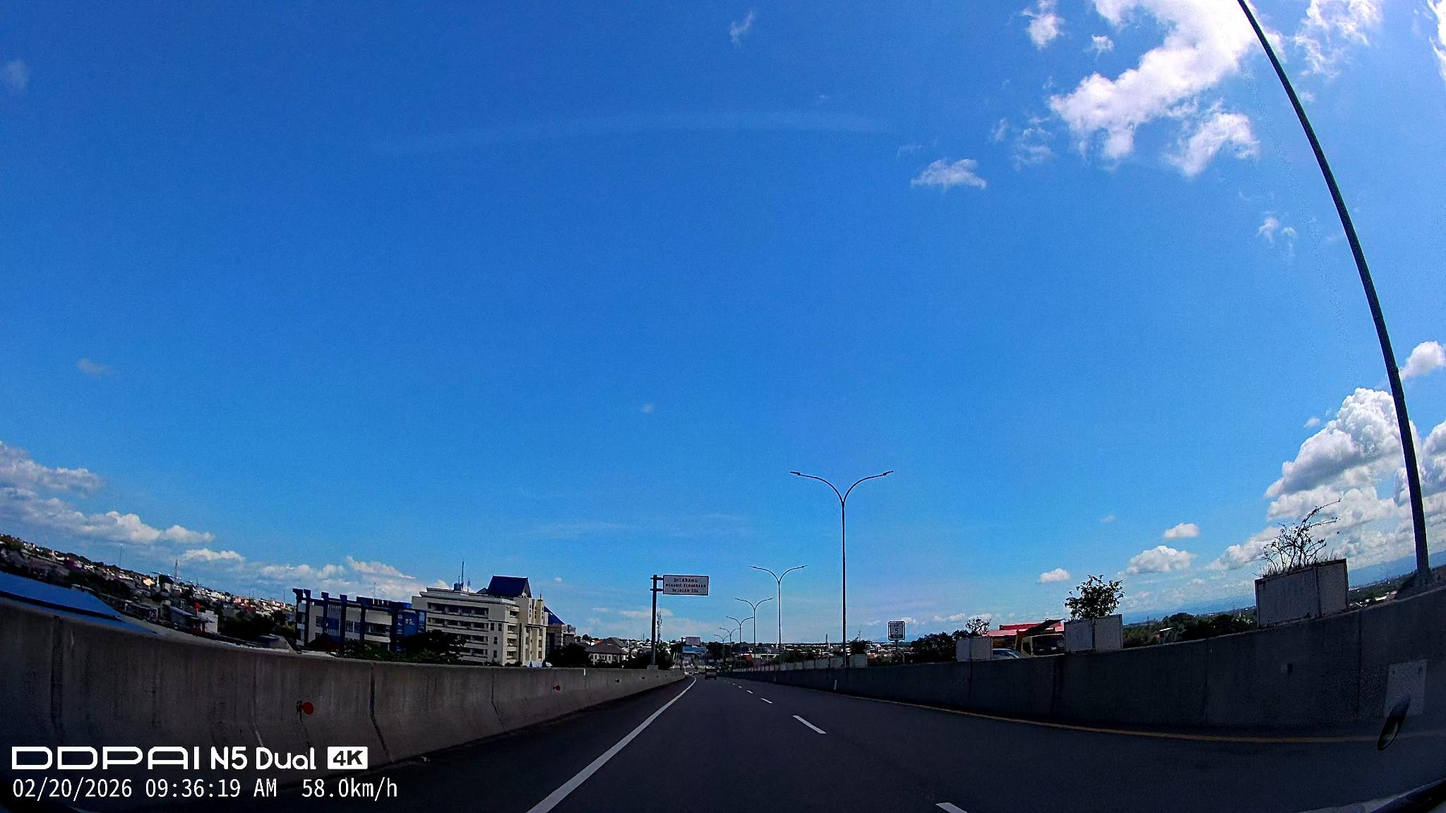rambu_teks: (663, 575, 709, 596)
